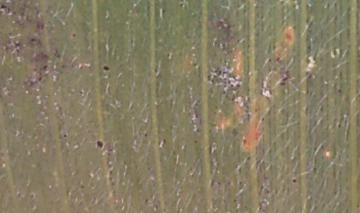tarspot: (278, 75, 289, 87), (95, 138, 105, 150), (100, 64, 112, 72), (241, 136, 249, 146), (13, 39, 21, 49), (160, 7, 167, 18), (165, 49, 172, 60), (29, 36, 38, 44), (78, 183, 87, 191), (161, 137, 167, 148), (70, 31, 78, 39), (191, 61, 199, 69), (245, 154, 251, 164), (1, 3, 9, 10), (266, 56, 273, 64), (41, 63, 49, 70), (260, 116, 267, 124), (62, 132, 68, 140), (336, 121, 342, 129), (291, 177, 297, 184), (143, 131, 149, 138), (192, 138, 198, 145), (335, 87, 341, 93), (178, 3, 184, 8)
